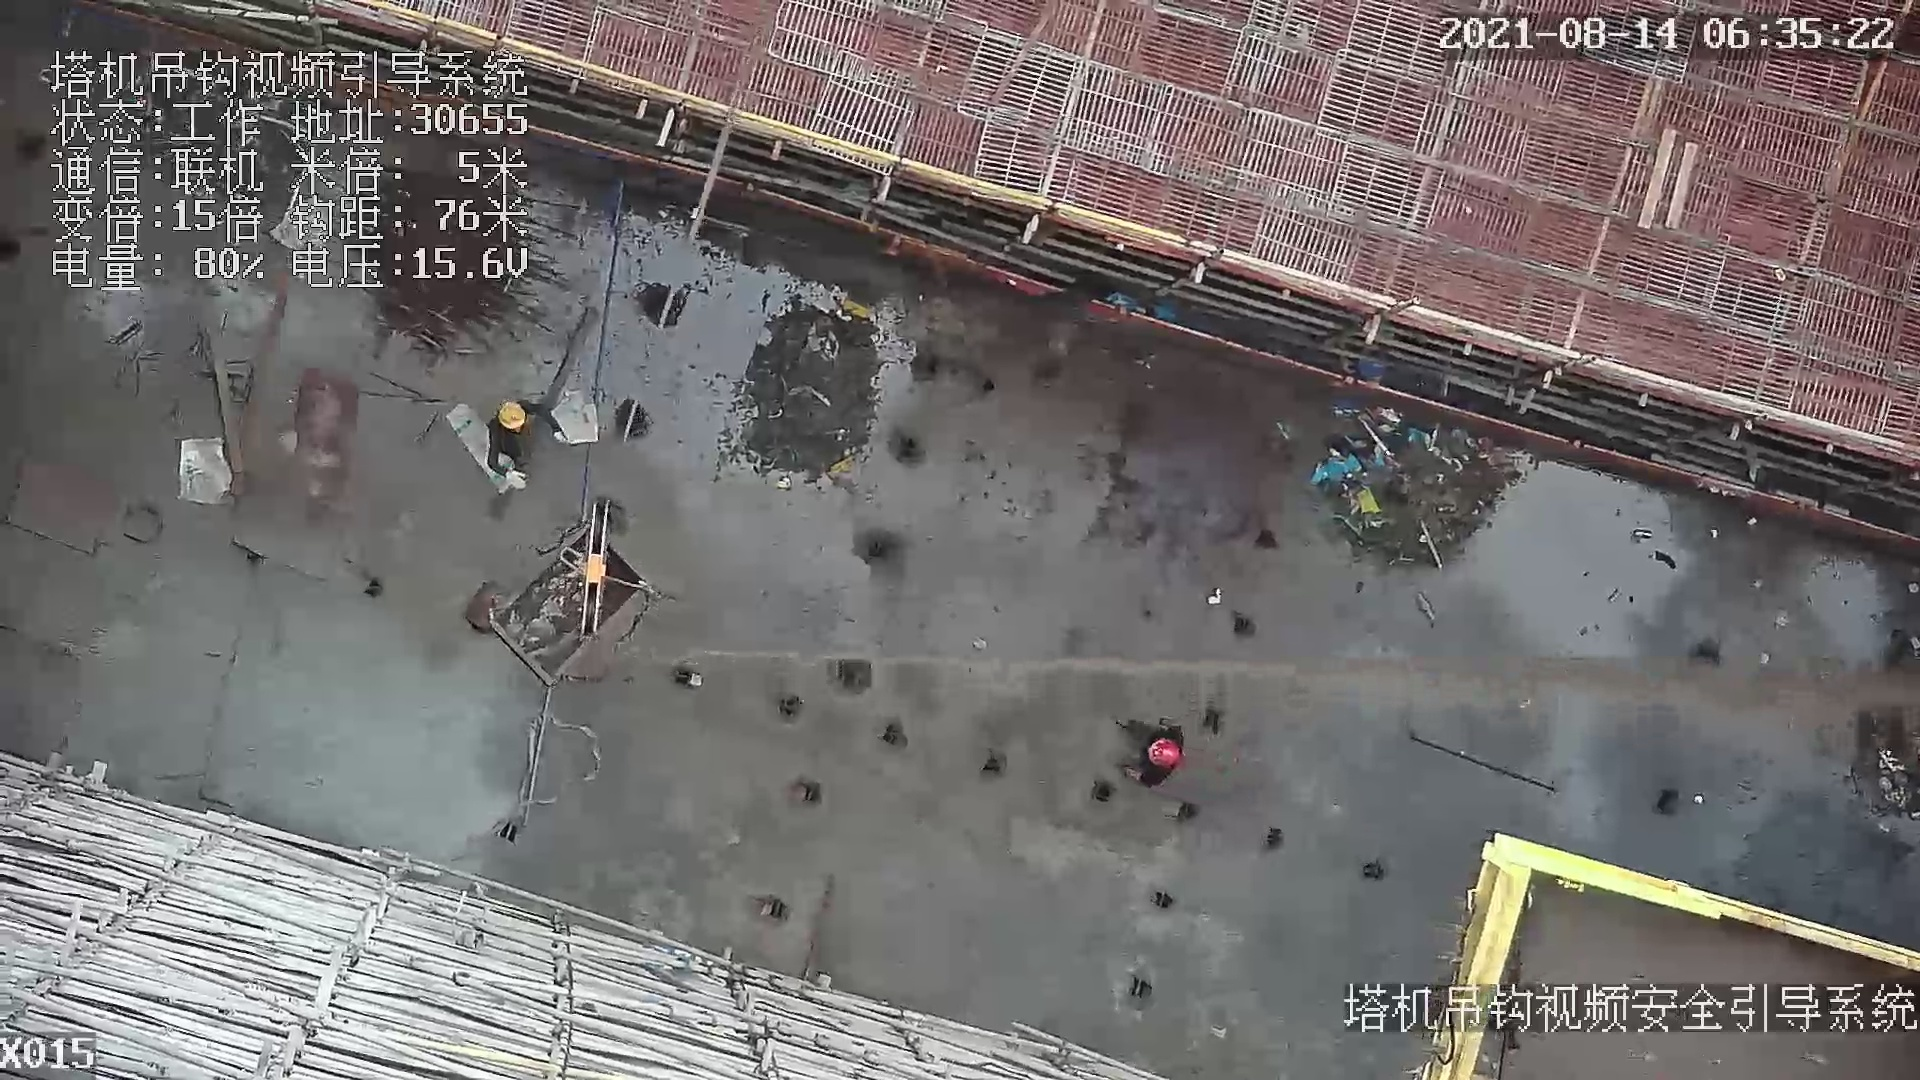helmet: (1148, 738, 1183, 772), (493, 401, 527, 429)
hook: (562, 496, 604, 635)
hopper: (487, 526, 668, 699)
person: (476, 383, 568, 496), (1117, 706, 1191, 792)
